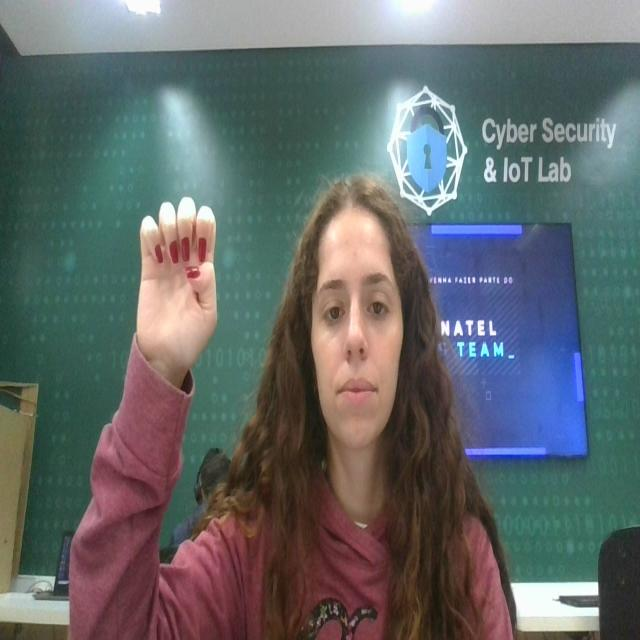E: (135, 196, 225, 380)
